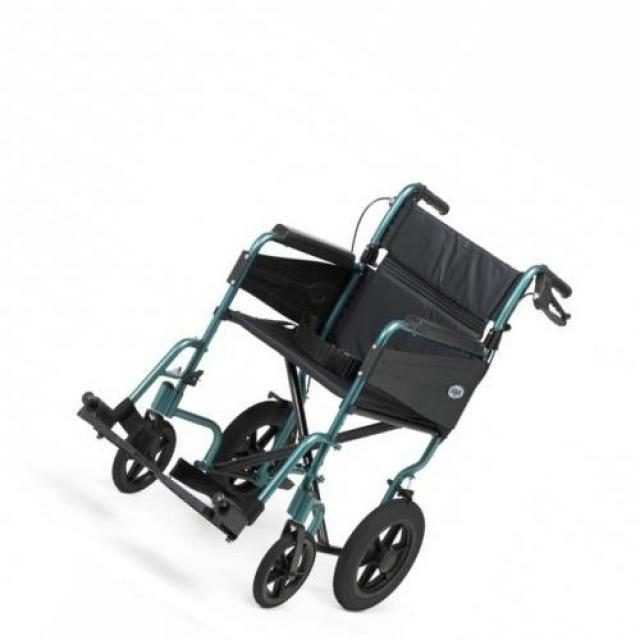wheelchair: (59, 164, 604, 620)
